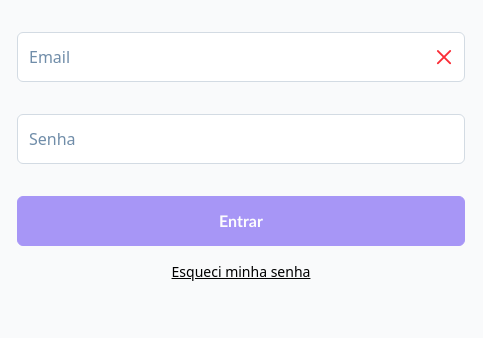
Test: Login Component › Error Handling › displays generic error message for unknown errors
In the field labelled "Email": (241, 57) top-left (17, 32), bottom-right (465, 82), type "john@example.com"
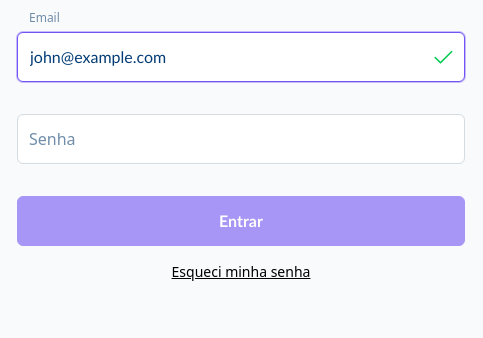
In the password field labelled "Senha": (241, 139) top-left (17, 114), bottom-right (465, 164), type "password123"
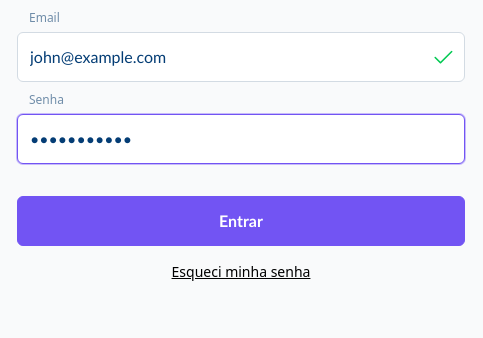
Click the button "Entrar": (241, 221) top-left (17, 196), bottom-right (465, 246)
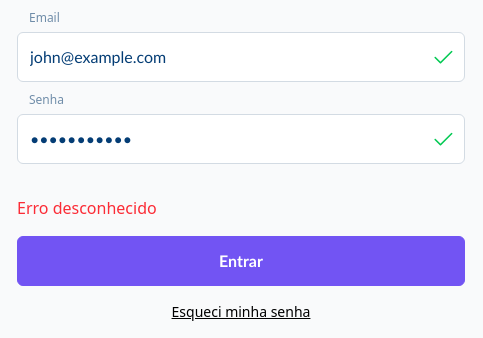
Check: the text "Erro desconhecido" is shown, box top-left (17, 197), bottom-right (157, 219)
